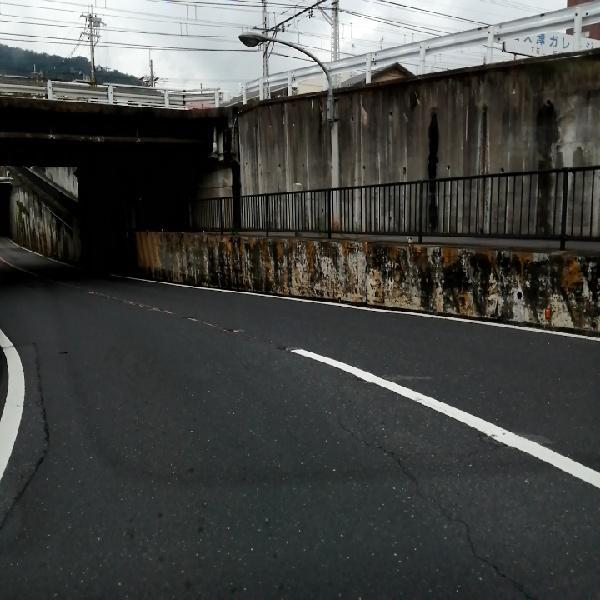D00: (347, 427, 536, 592)
